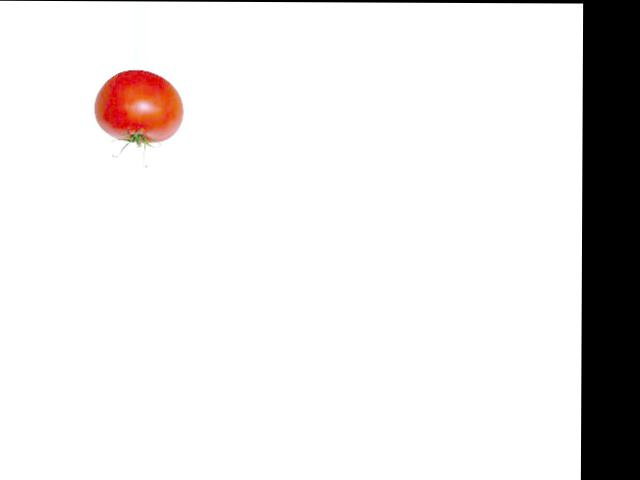tomato: (94, 69, 184, 143)
